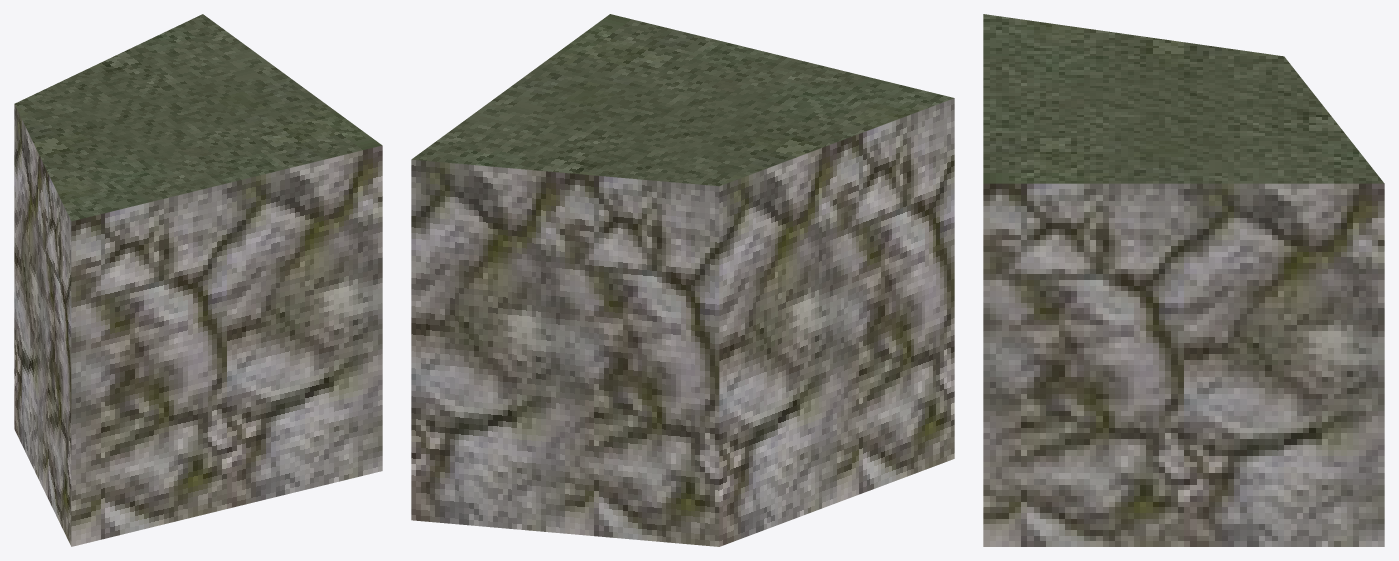
File: cliff-corner.glb
3 views of the same model, side by side, from view 1: azimuth 30°, elevation 25°; view 2: azimuth 150°, elevation 25°; view 3: azimuth 270°, elevation 25° (orthographic). The views are drawn at different scales.
Visible parts, largest first — view 1: cliff-corner; view 2: cliff-corner; view 3: cliff-corner.
Part boxes in pixels (box(x1,y1,x2,y2)): cliff-corner: box(14, 14, 382, 546); cliff-corner: box(411, 14, 954, 546); cliff-corner: box(983, 14, 1384, 546).
Bounding box in the file's own units: 1 × 1 × 1.
2 materials, 2 textured.
